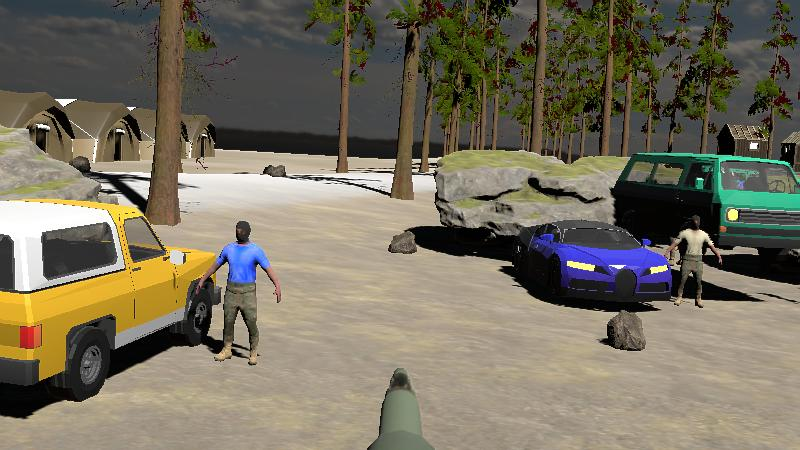House: (714, 121, 770, 159), (779, 130, 800, 169), (780, 130, 800, 168)
Human: (197, 216, 285, 367), (666, 216, 723, 309), (668, 216, 723, 311)
car: (0, 199, 220, 401), (613, 150, 800, 260), (513, 215, 675, 302)
